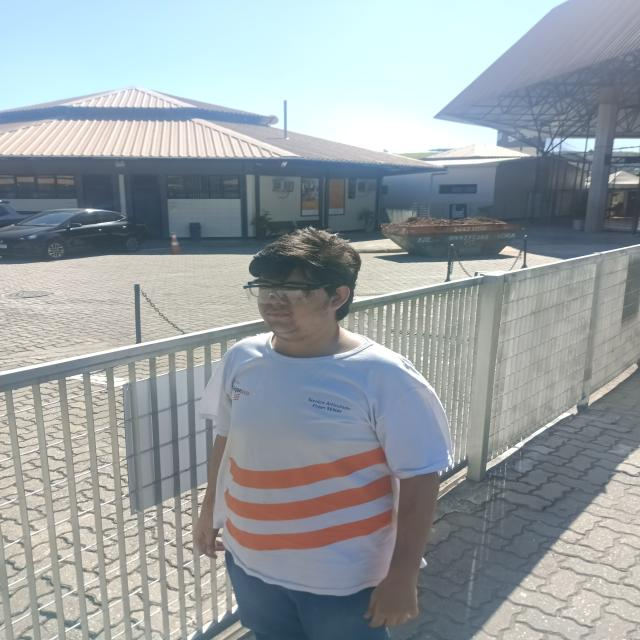oculos-epi: (241, 282, 335, 306)
